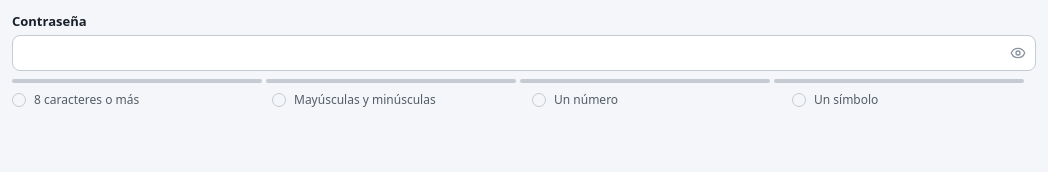
it: 21 CampoClave › dice qué falta mientras se escribe y deja ver la contraseña
Later steps or results of the test are not shown.
Type "Abcdefgh" into the password field labelled "Contraseña".
click(512, 53); type("Abcdefgh")  # box [25,36,1000,70]
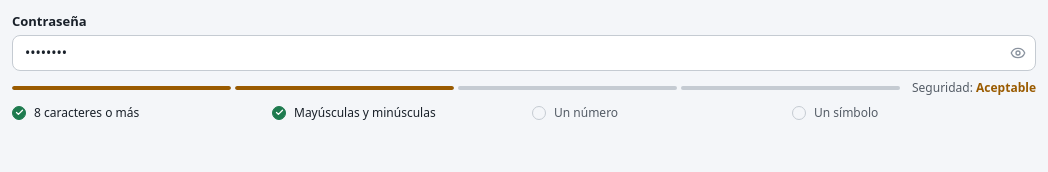
Expected: the text "Aceptable" is shown, [976,79,1036,96]
